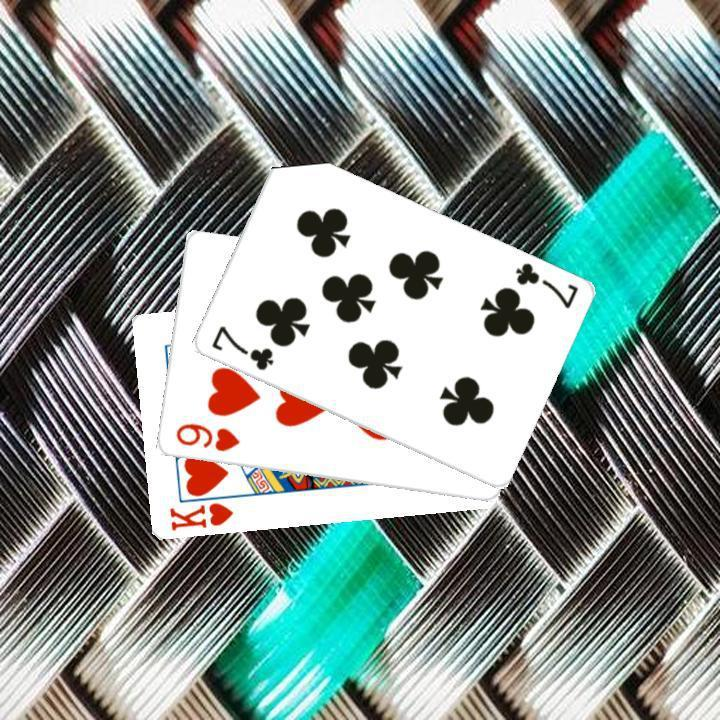7: (510, 258, 580, 311), (206, 321, 276, 373)
9: (170, 419, 241, 454)
K: (165, 499, 235, 533)
